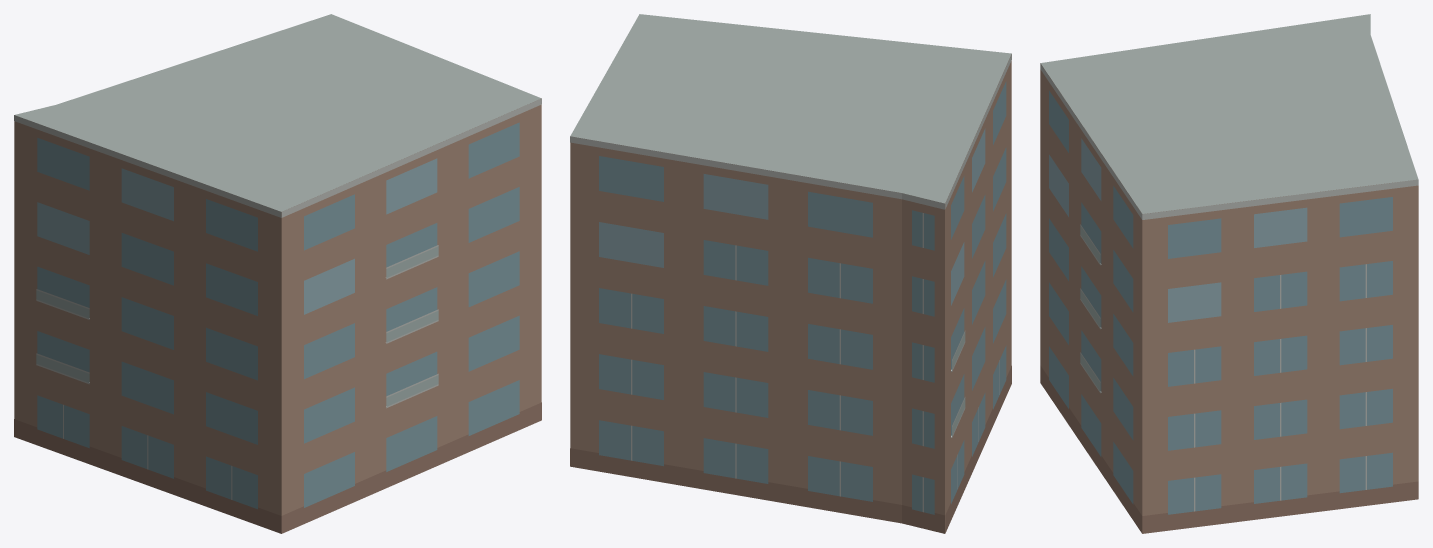
The model's file is survey-upis-32634876.glb.
3 views of the same model, side by side, from view 1: azimuth 30°, elevation 25°; view 2: azimuth 150°, elevation 25°; view 3: azimuth 270°, elevation 25° (orthographic). The views are drawn at different scales.
Parts seen in each view (by area): view 1: survey-upis-32634876.tmp; view 2: survey-upis-32634876.tmp; view 3: survey-upis-32634876.tmp.
Boxes of the visible parts, x1,y1,x2,y2 form: survey-upis-32634876.tmp: (14,14,541,533); survey-upis-32634876.tmp: (570,14,1011,533); survey-upis-32634876.tmp: (1040,14,1418,533).
Bounding box in the file's own units: 17.32 × 12.9 × 13.83.
